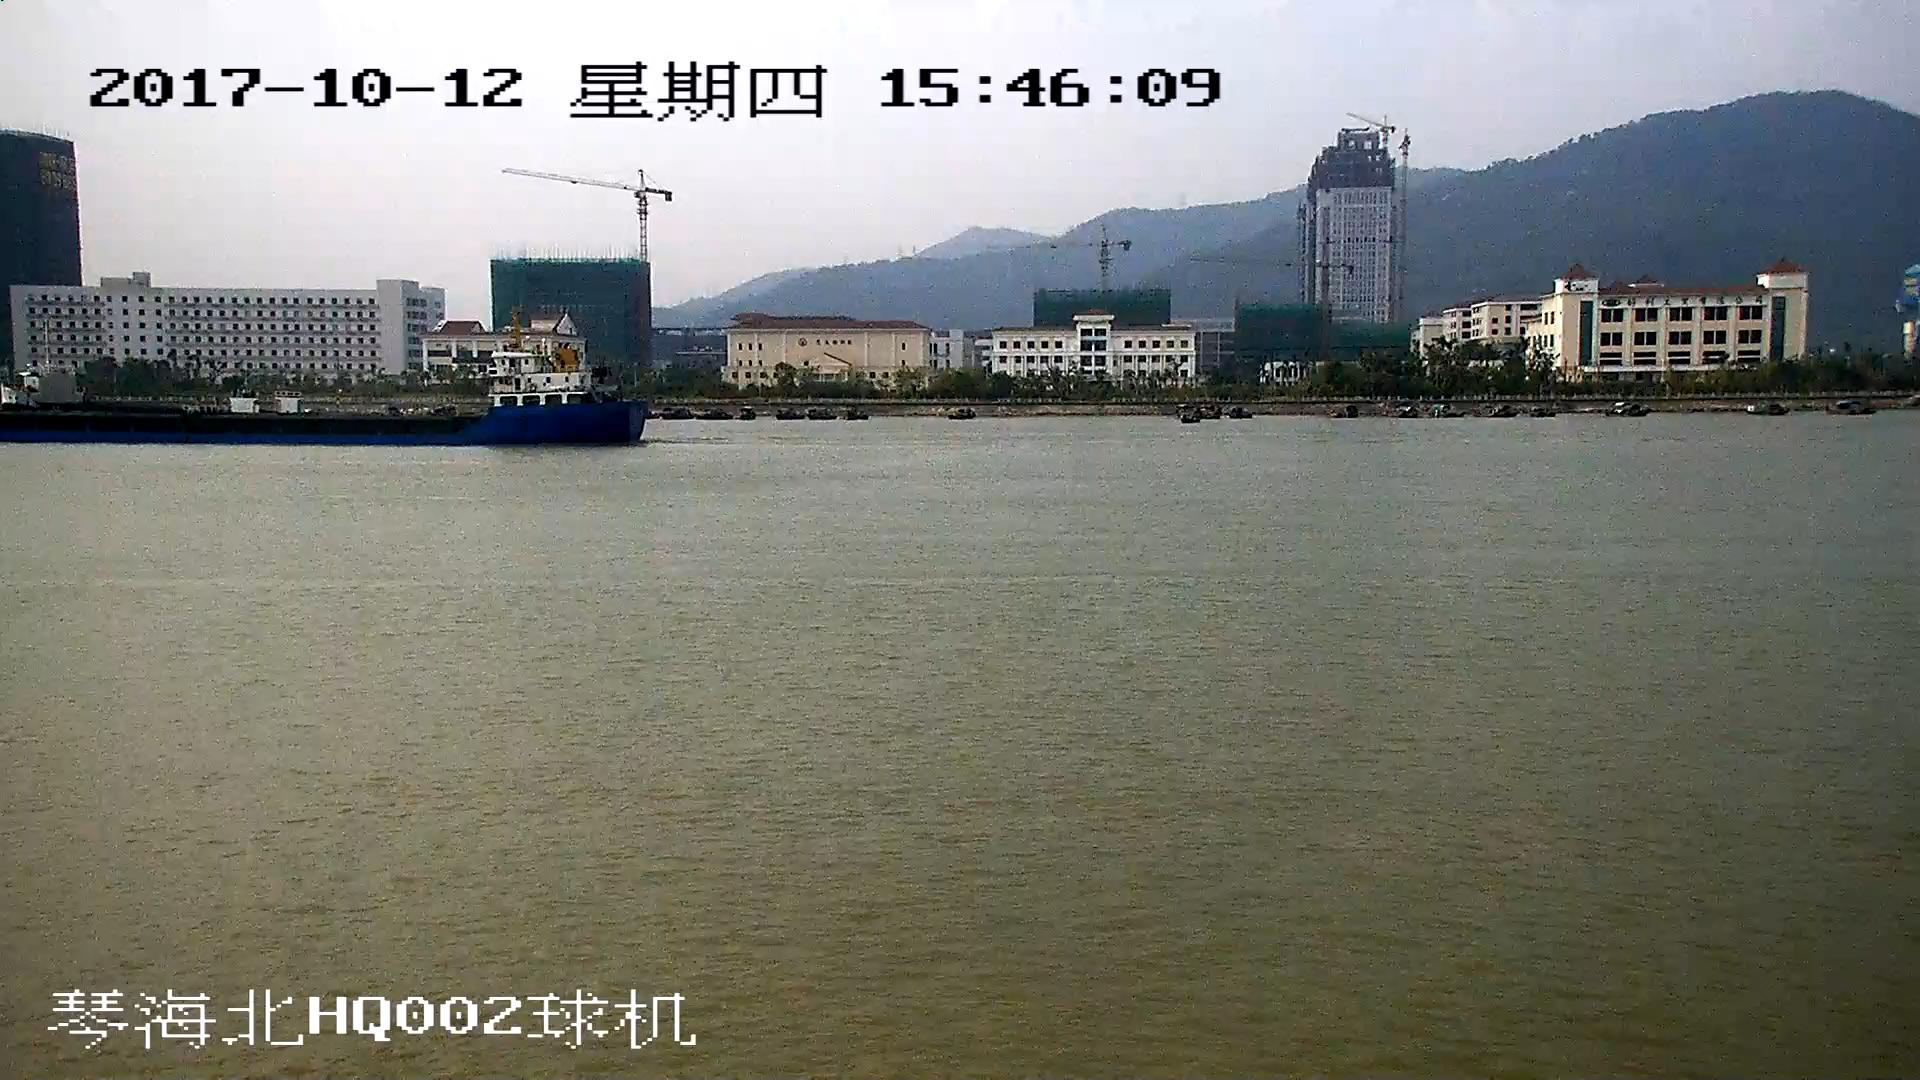general cargo ship: (1, 320, 648, 445)
